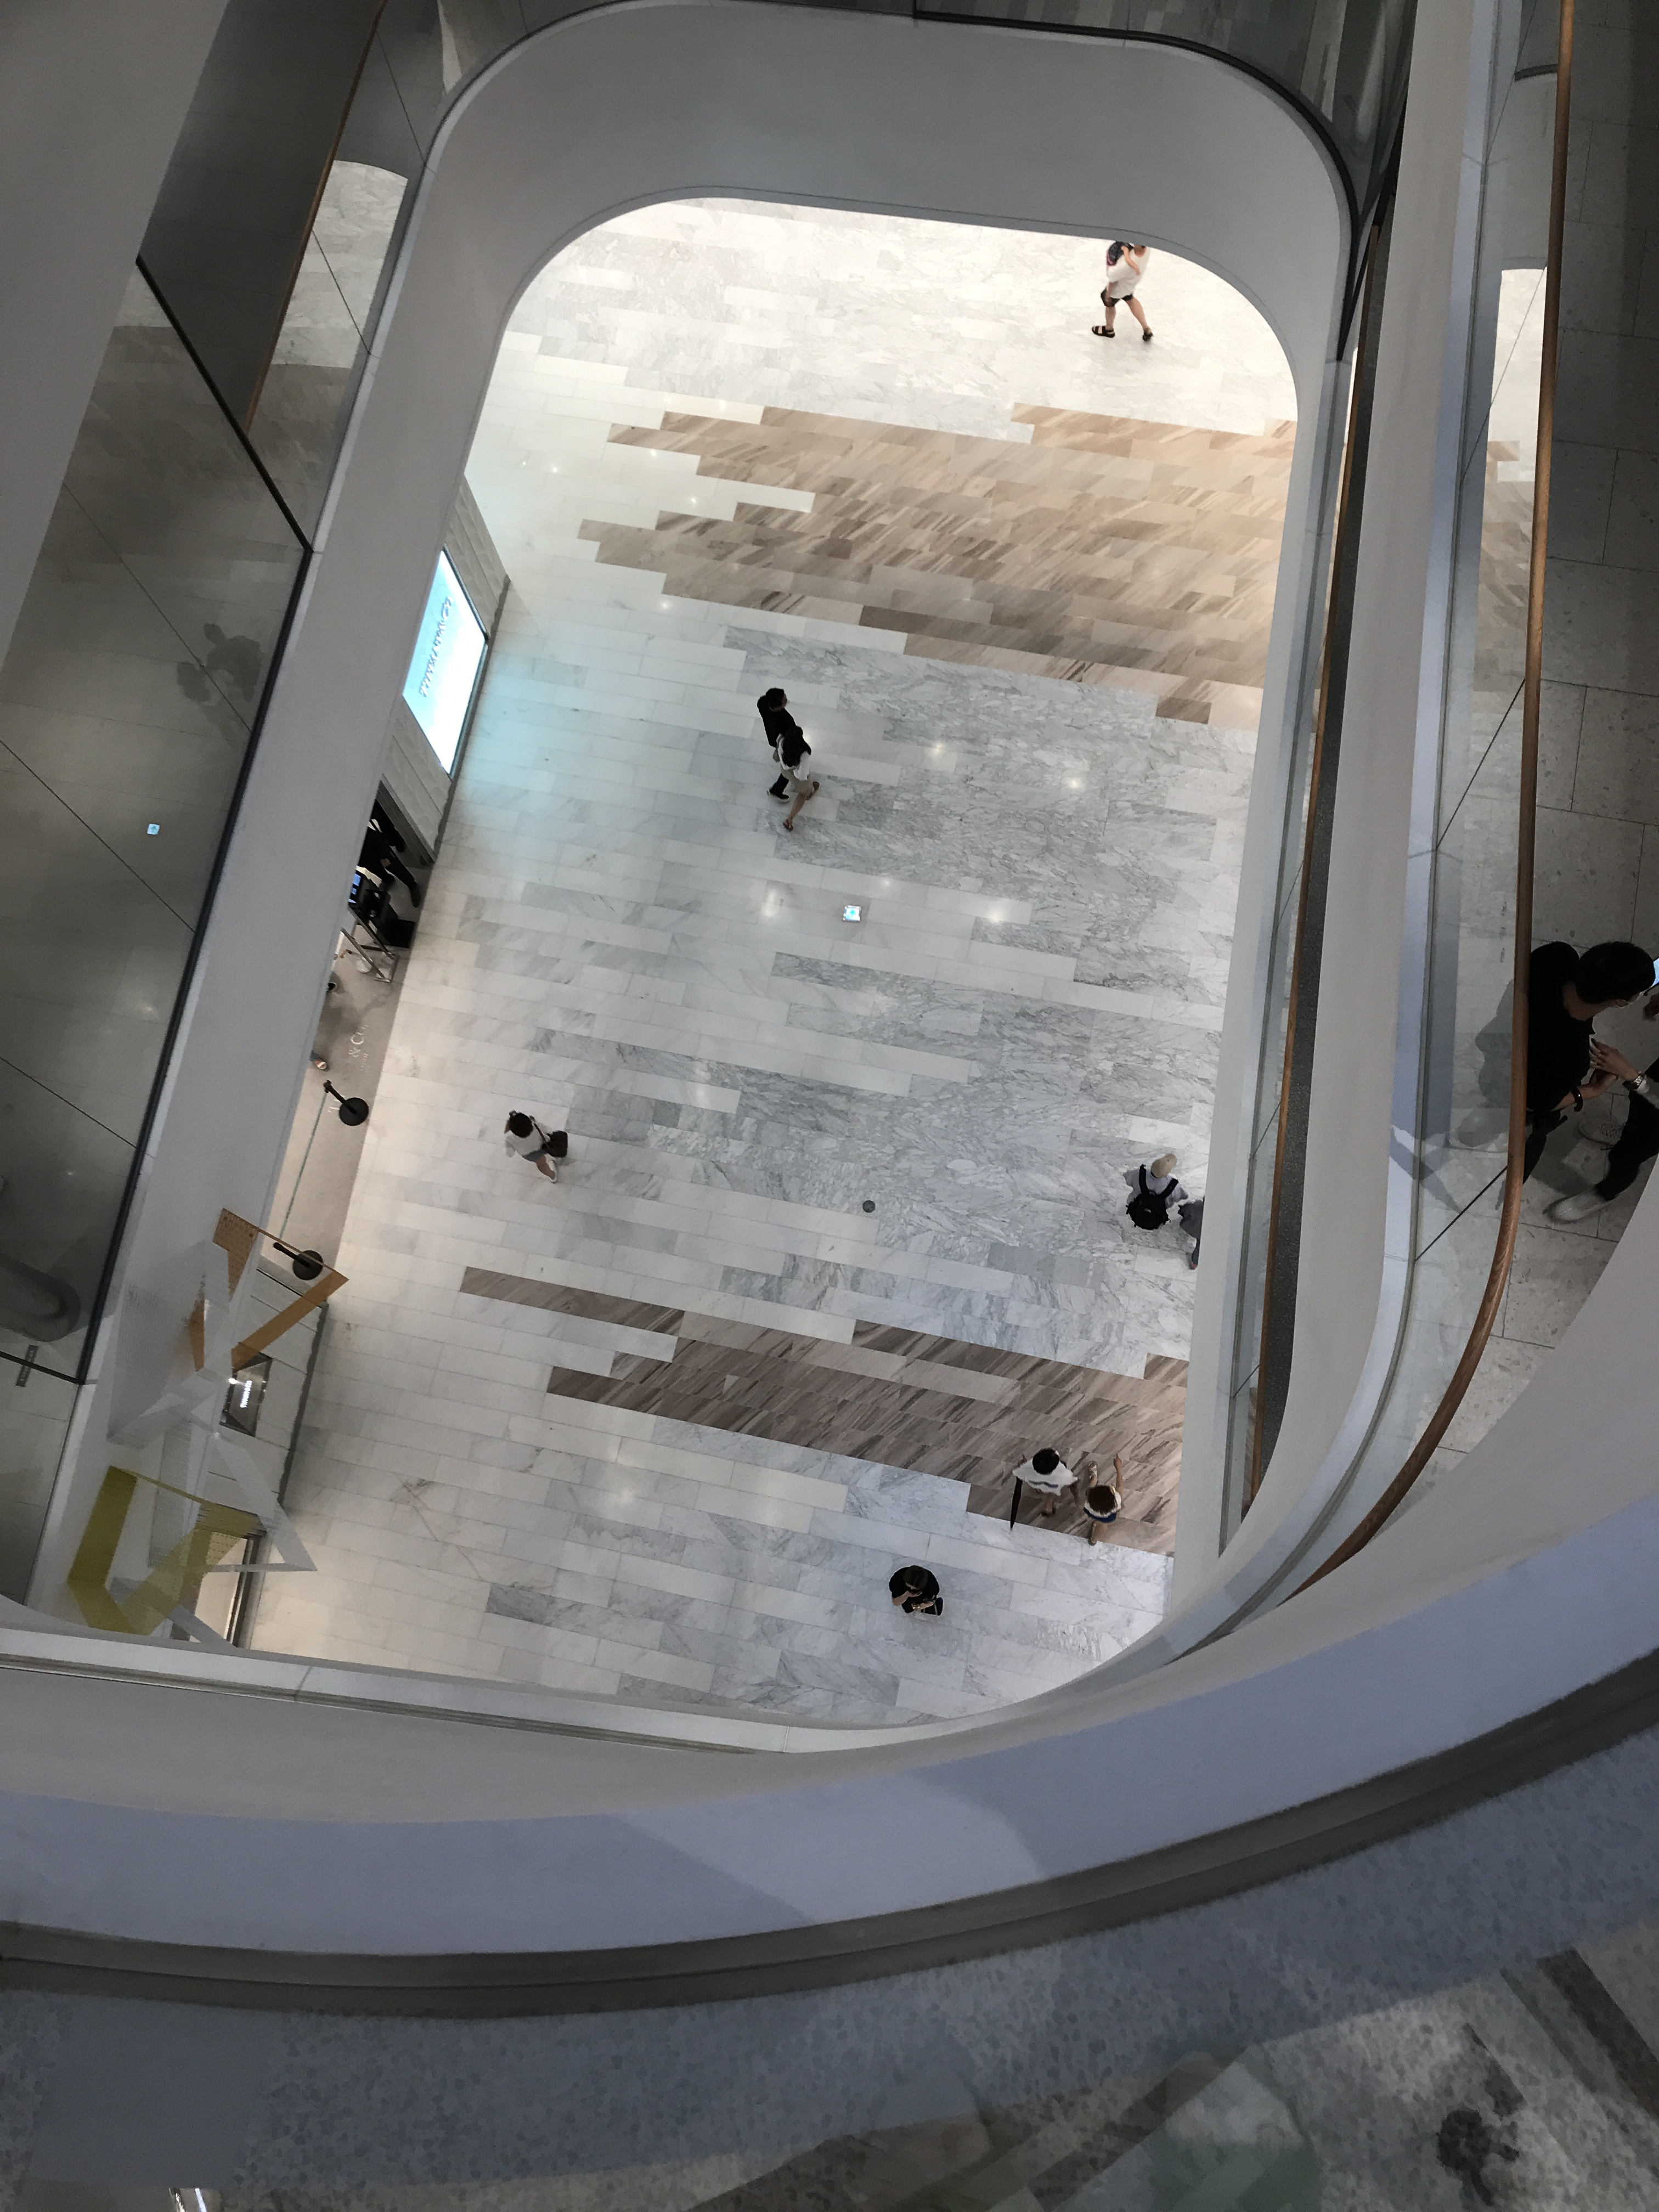person: (1452, 942, 1652, 1151), (1094, 244, 1152, 342), (1122, 1151, 1186, 1231), (504, 1109, 567, 1187), (1014, 1447, 1076, 1523), (777, 721, 819, 831), (1077, 1453, 1123, 1548), (761, 689, 798, 804), (888, 1564, 947, 1620)
